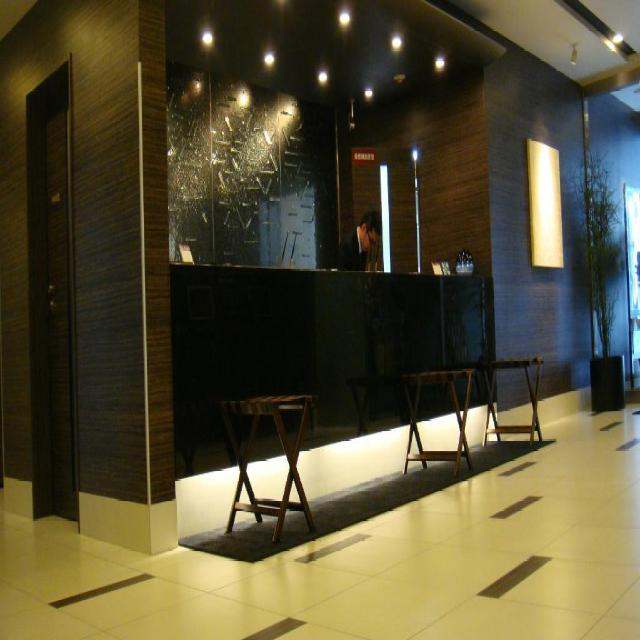table: (204, 387, 324, 533), (403, 369, 476, 480), (471, 358, 544, 447)
